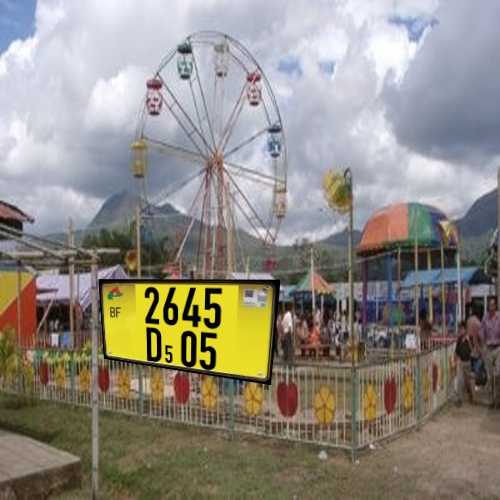plate: (87, 266, 297, 404)
